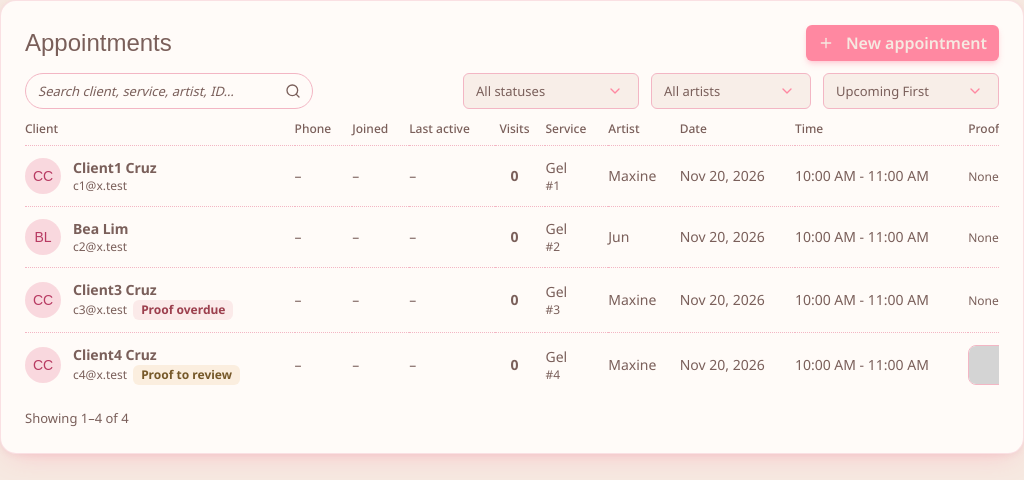
Test case: Appointments table › shows the error, not the previous filter's rows, when a new filter can't load
Expected: the table named "Appointments" is shown, [25, 121, 999, 397]
Click the button "All statuses". click: (551, 91)
box: [463, 73, 639, 109]
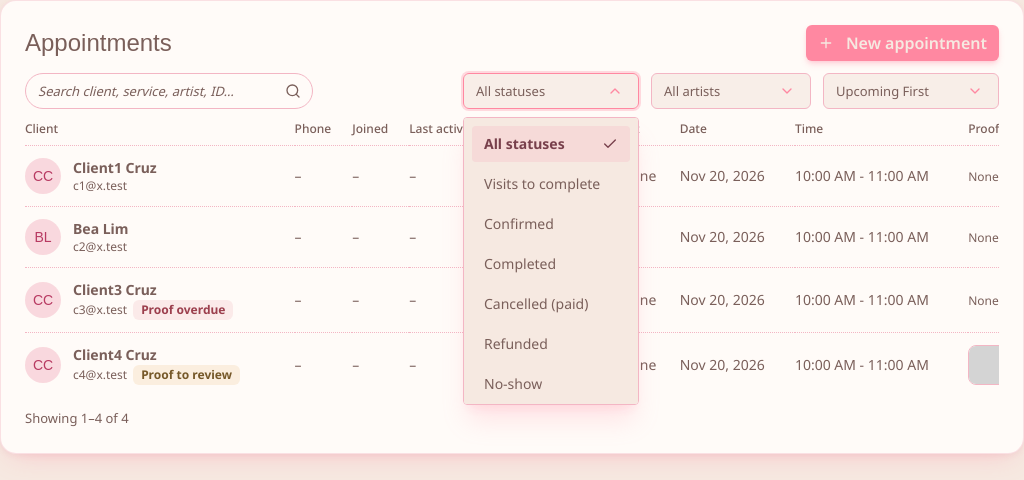
Click the option "Cancelled (paid)". click: (551, 304)
box: [472, 286, 630, 322]
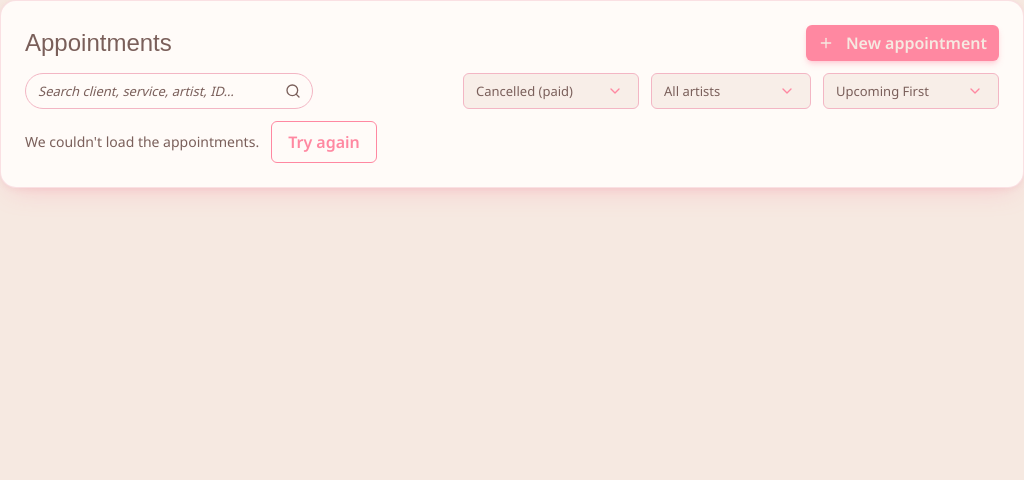
Expected: the text "We couldn't load the appointments. Try again" is shown, [25, 121, 377, 163]
